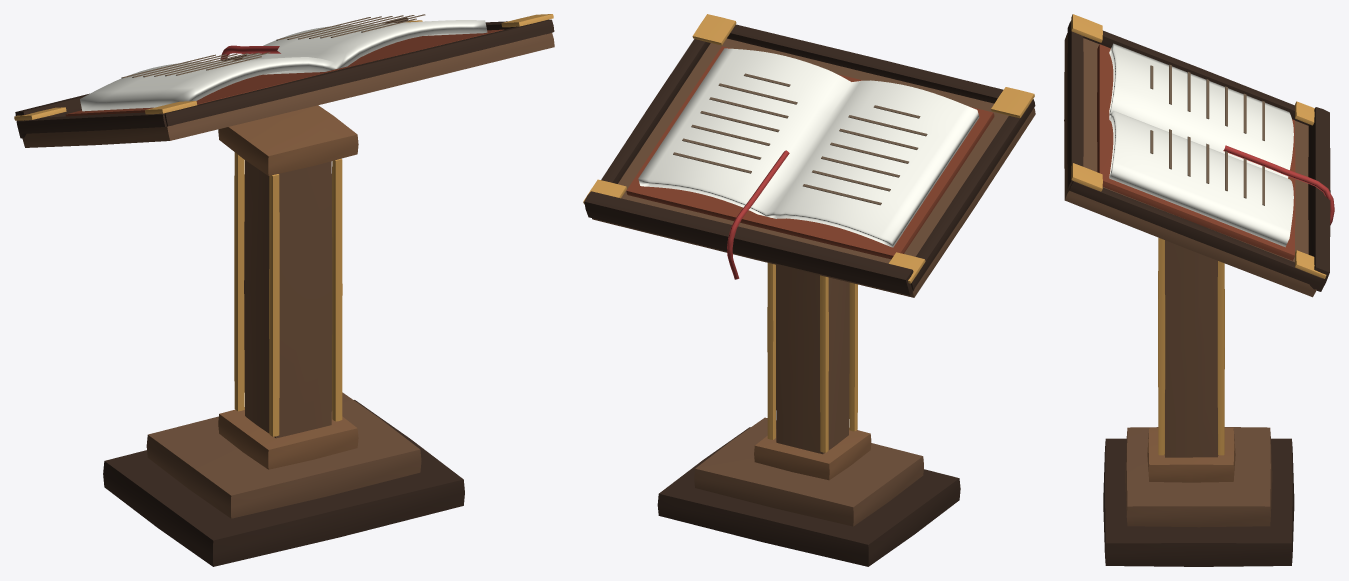
The model's file is detail_arcane_lectern.glb.
The picture shows the model from 3 angles, left to right: view 1: azimuth 30°, elevation 25°; view 2: azimuth 150°, elevation 25°; view 3: azimuth 270°, elevation 25°; orthographic projection. The views are drawn at different scales.
Parts seen in each view (by area): view 1: wood, plaster, metal, cloth; view 2: wood, plaster, cloth, metal; view 3: wood, plaster, cloth, metal.
Part boxes in pixels (left/top/right/bottom): wood: left=15, top=17, right=554, bottom=566; plaster: left=80, top=14, right=487, bottom=111; metal: left=14, top=14, right=553, bottom=436; cloth: left=65, top=29, right=503, bottom=116; wood: left=584, top=24, right=1035, bottom=566; plaster: left=638, top=48, right=979, bottom=247; cloth: left=626, top=46, right=994, bottom=279; metal: left=583, top=14, right=1034, bottom=452; wood: left=1064, top=20, right=1330, bottom=566; plaster: left=1109, top=43, right=1293, bottom=247; cloth: left=1097, top=44, right=1334, bottom=260; metal: left=1071, top=14, right=1326, bottom=455.
Bounding box in the file's own units: 1 × 1.2 × 0.7.
